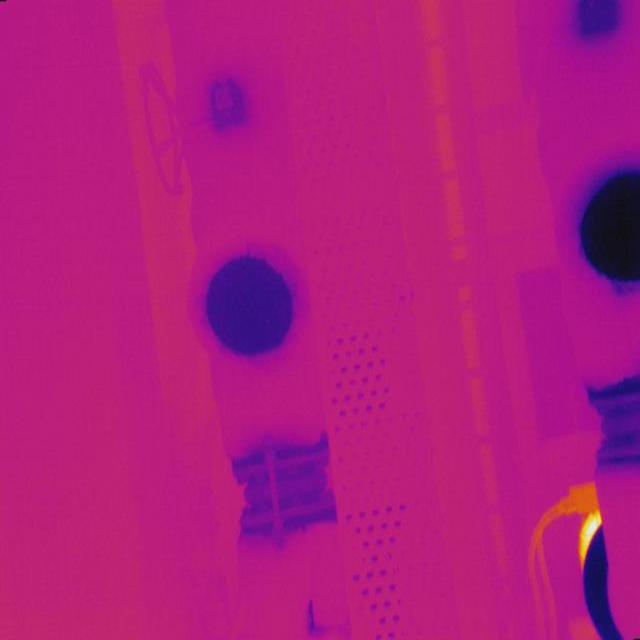leakage: (300, 591, 335, 640)
